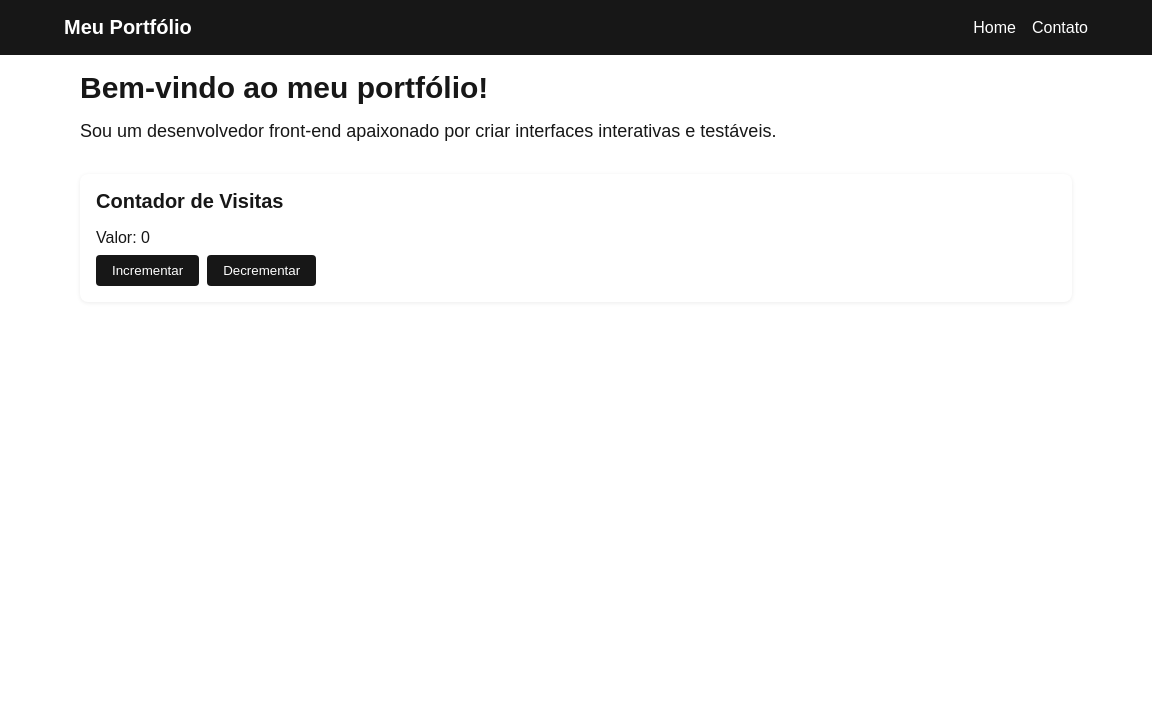
Test case: Navegação › navega para a página de contato
The width and height of the screenshot is (1152, 720).
# Clica no link de navegação para contato
What coordinates should you click on to do the following:
click the link with test id "nav-contact"
I would click on:
 (1060, 28)
Its box is [1032,19,1088,36].
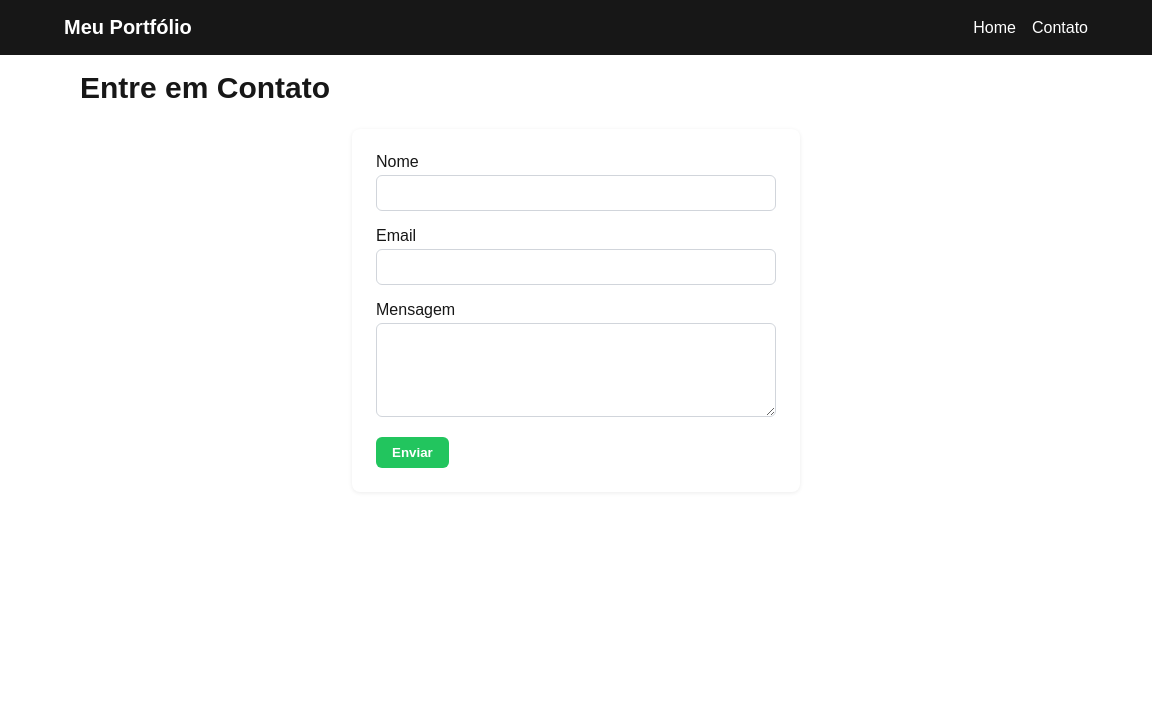
Expected: the heading "Entre em Contato" is shown, [80,71,330,104]
